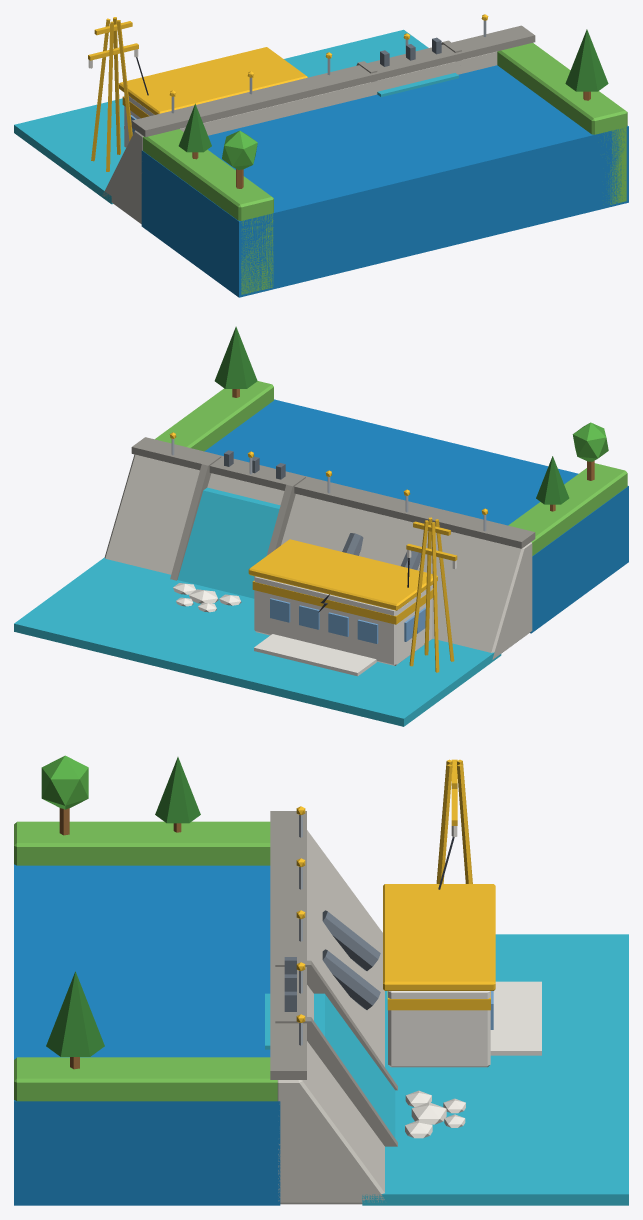
The model's file is hydroelectric_plant.glb.
3 renders of one model, top to bottom at view 1: azimuth 30°, elevation 25°; view 2: azimuth 150°, elevation 25°; view 3: azimuth 270°, elevation 25°, orthographic. The views are drawn at different scales.
Visible parts, largest first — view 1: corpo; view 2: corpo; view 3: corpo.
Part boxes in pixels (x1,y1,x2,y2): corpo: (14,14,628,297); corpo: (14,326,628,726); corpo: (14,755,628,1205).
Bounding box in the file's own units: 6 × 2.38 × 6.
